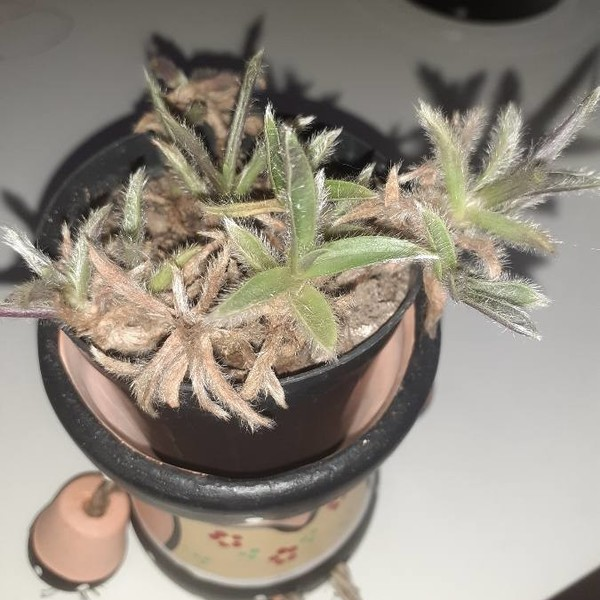obstacle: (40, 50, 579, 490)
